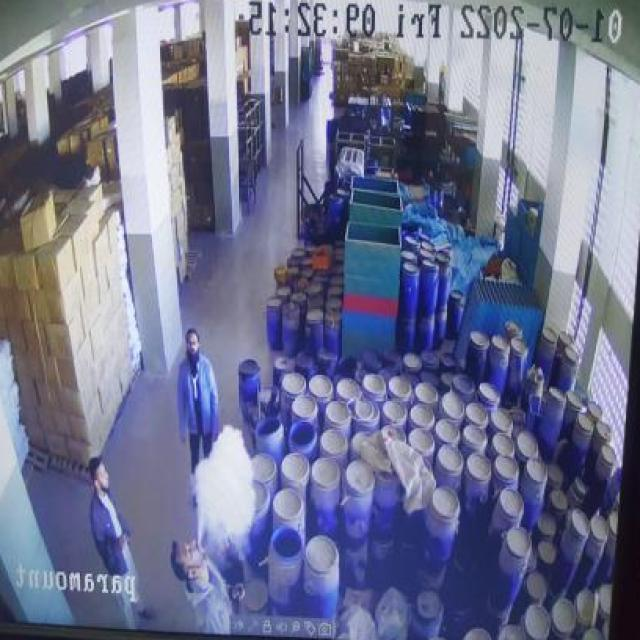fire: (192, 422, 257, 549)
